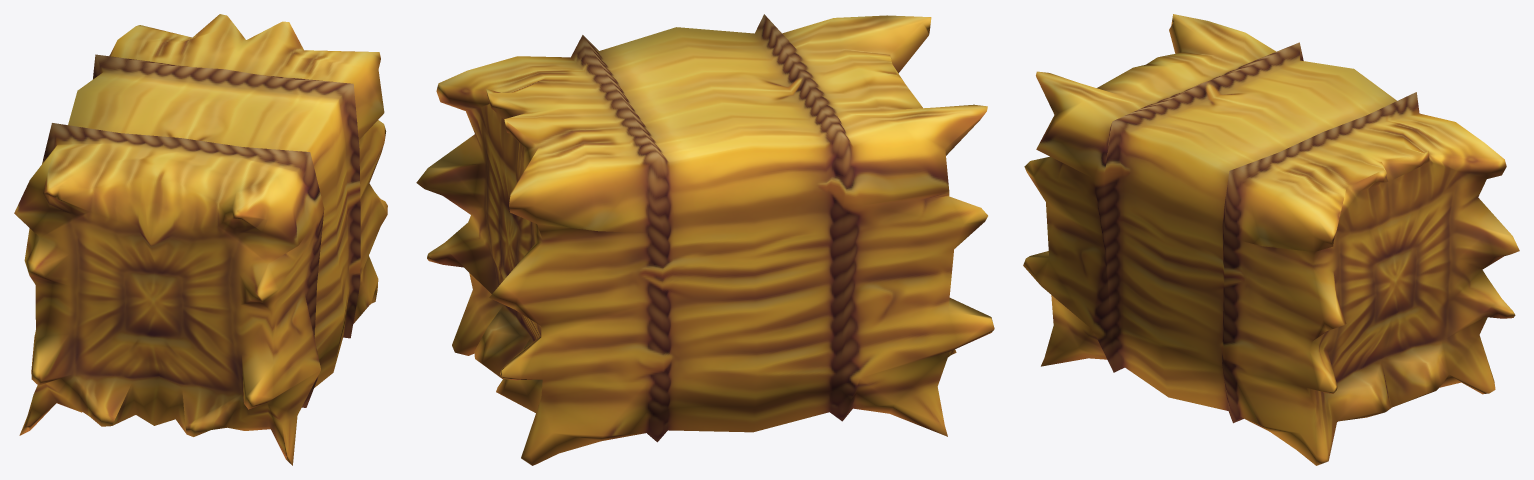
The model's file is tawara3.fbx.
3 views of the same model, side by side, from view 1: azimuth 30°, elevation 25°; view 2: azimuth 150°, elevation 25°; view 3: azimuth 270°, elevation 25° (orthographic). The views are drawn at different scales.
Parts seen in each view (by area): view 1: Cube_Straw02; view 2: Cube_Straw02; view 3: Cube_Straw02.
Part boxes in pixels (x1,y1,x2,y2): Cube_Straw02: [14, 14, 387, 465]; Cube_Straw02: [416, 14, 994, 465]; Cube_Straw02: [1023, 14, 1519, 465].
Size of the model in its own units: 56.57 by 34.68 by 56.54.
Materials: 1 (1 with a texture image).
